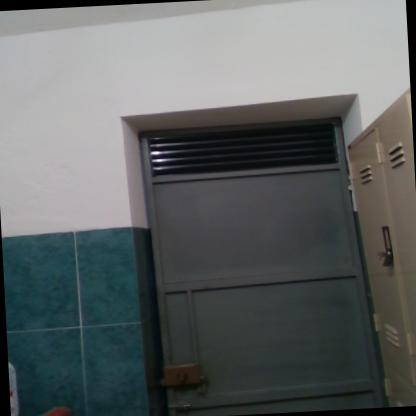closed: (100, 68, 397, 416)
